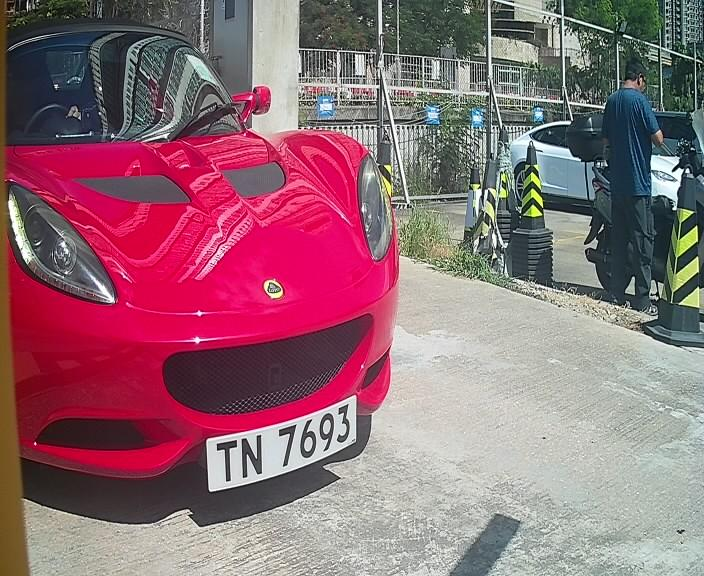Car: (1, 3, 463, 546)
License Plate: (164, 402, 387, 492)
